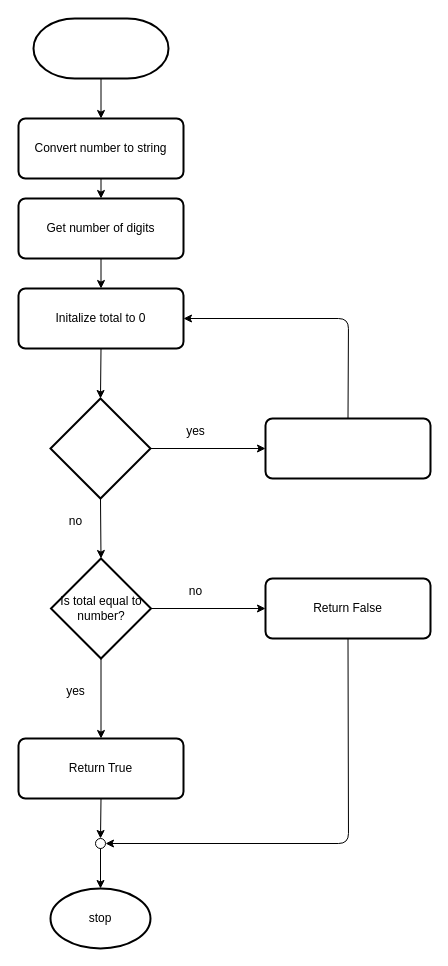
This 448x966 diagram has some shape labels left out. Each missing label, with the box of its shape:
Add digit numdigist to total: (264, 417, 431, 479)
for cach digit in string: (49, 397, 151, 499)
is_armstrong(number): (32, 17, 169, 79)
